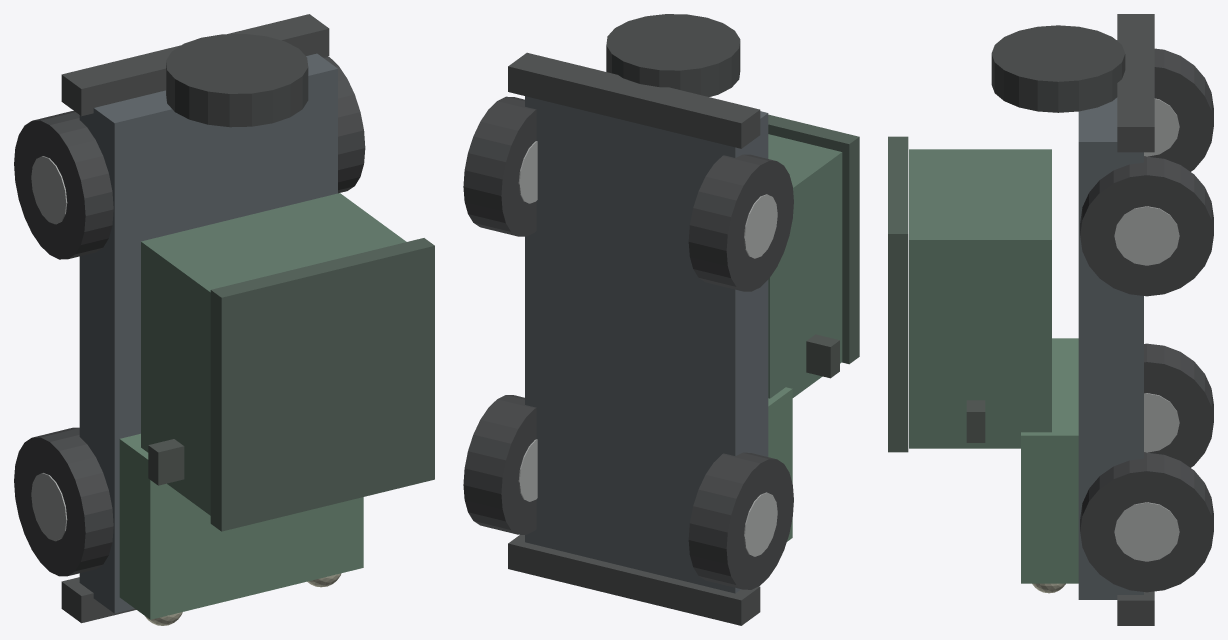
File: offroad_jeep.glb
The picture shows the model from 3 angles, left to right: view 1: azimuth 30°, elevation 25°; view 2: azimuth 150°, elevation 25°; view 3: azimuth 270°, elevation 25°; orthographic projection. The views are drawn at different scales.
Parts seen in each view (by area): view 1: roof, chassis, cabin, hood, spare_tire, wheel_L_front, wheel_L_rear, rear_bumper, wheel_R_rear, rim_-0.83_1.05, rim_-0.83_-1.05, mirror_-0.55 (+1 smaller); view 2: chassis, cabin, rear_bumper, wheel_L_rear, wheel_L_front, spare_tire, front_bumper, wheel_R_rear, wheel_R_front, roof, hood, rim_-0.83_1.05 (+4 smaller); view 3: cabin, chassis, wheel_R_front, wheel_R_rear, hood, spare_tire, roof, wheel_L_front, rear_bumper, wheel_L_rear, rim_0.83_-1.05, rim_0.83_1.05 (+4 smaller).
Part boxes in pixels (left/top/right/bottom): roof: left=210, top=238, right=434, bottom=531; chassis: left=79, top=53, right=337, bottom=613; cabin: left=141, top=193, right=406, bottom=515; hood: left=119, top=433, right=363, bottom=619; spare_tire: left=166, top=34, right=308, bottom=127; wheel_L_front: left=14, top=427, right=113, bottom=576; wheel_L_rear: left=14, top=111, right=113, bottom=259; rear_bumper: left=61, top=14, right=329, bottom=116; wheel_R_rear: left=323, top=56, right=365, bottom=193; rim_-0.83_1.05: left=31, top=156, right=67, bottom=224; rim_-0.83_-1.05: left=31, top=473, right=67, bottom=541; mirror_-0.55: left=148, top=439, right=184, bottom=485; chassis: left=525, top=96, right=768, bottom=593; cabin: left=768, top=134, right=842, bottom=398; rear_bumper: left=508, top=52, right=760, bottom=148; wheel_L_rear: left=688, top=154, right=793, bottom=291; wheel_L_front: left=688, top=452, right=793, bottom=589; spare_tire: left=606, top=14, right=740, bottom=96; front_bumper: left=508, top=535, right=760, bottom=625; wheel_R_rear: left=463, top=96, right=536, bottom=236; wheel_R_front: left=463, top=395, right=536, bottom=534; roof: left=768, top=114, right=859, bottom=364; hood: left=768, top=387, right=792, bottom=541; rim_-0.83_1.05: left=744, top=194, right=777, bottom=258; cabin: left=909, top=149, right=1051, bottom=448; chassis: left=1078, top=40, right=1143, bottom=599; wheel_R_front: left=1080, top=452, right=1213, bottom=592; wheel_R_rear: left=1080, top=156, right=1213, bottom=296; hood: left=1021, top=338, right=1078, bottom=583; spare_tire: left=991, top=25, right=1125, bottom=112; roof: left=888, top=136, right=908, bottom=452; wheel_L_front: left=1144, top=343, right=1213, bottom=467; rear_bumper: left=1117, top=14, right=1154, bottom=152; wheel_L_rear: left=1144, top=48, right=1213, bottom=171; rim_0.83_-1.05: left=1114, top=502, right=1179, bottom=561; rim_0.83_1.05: left=1114, top=206, right=1179, bottom=265.
Bounding box in the file's own units: 1.96 × 3.66 × 2.09.
